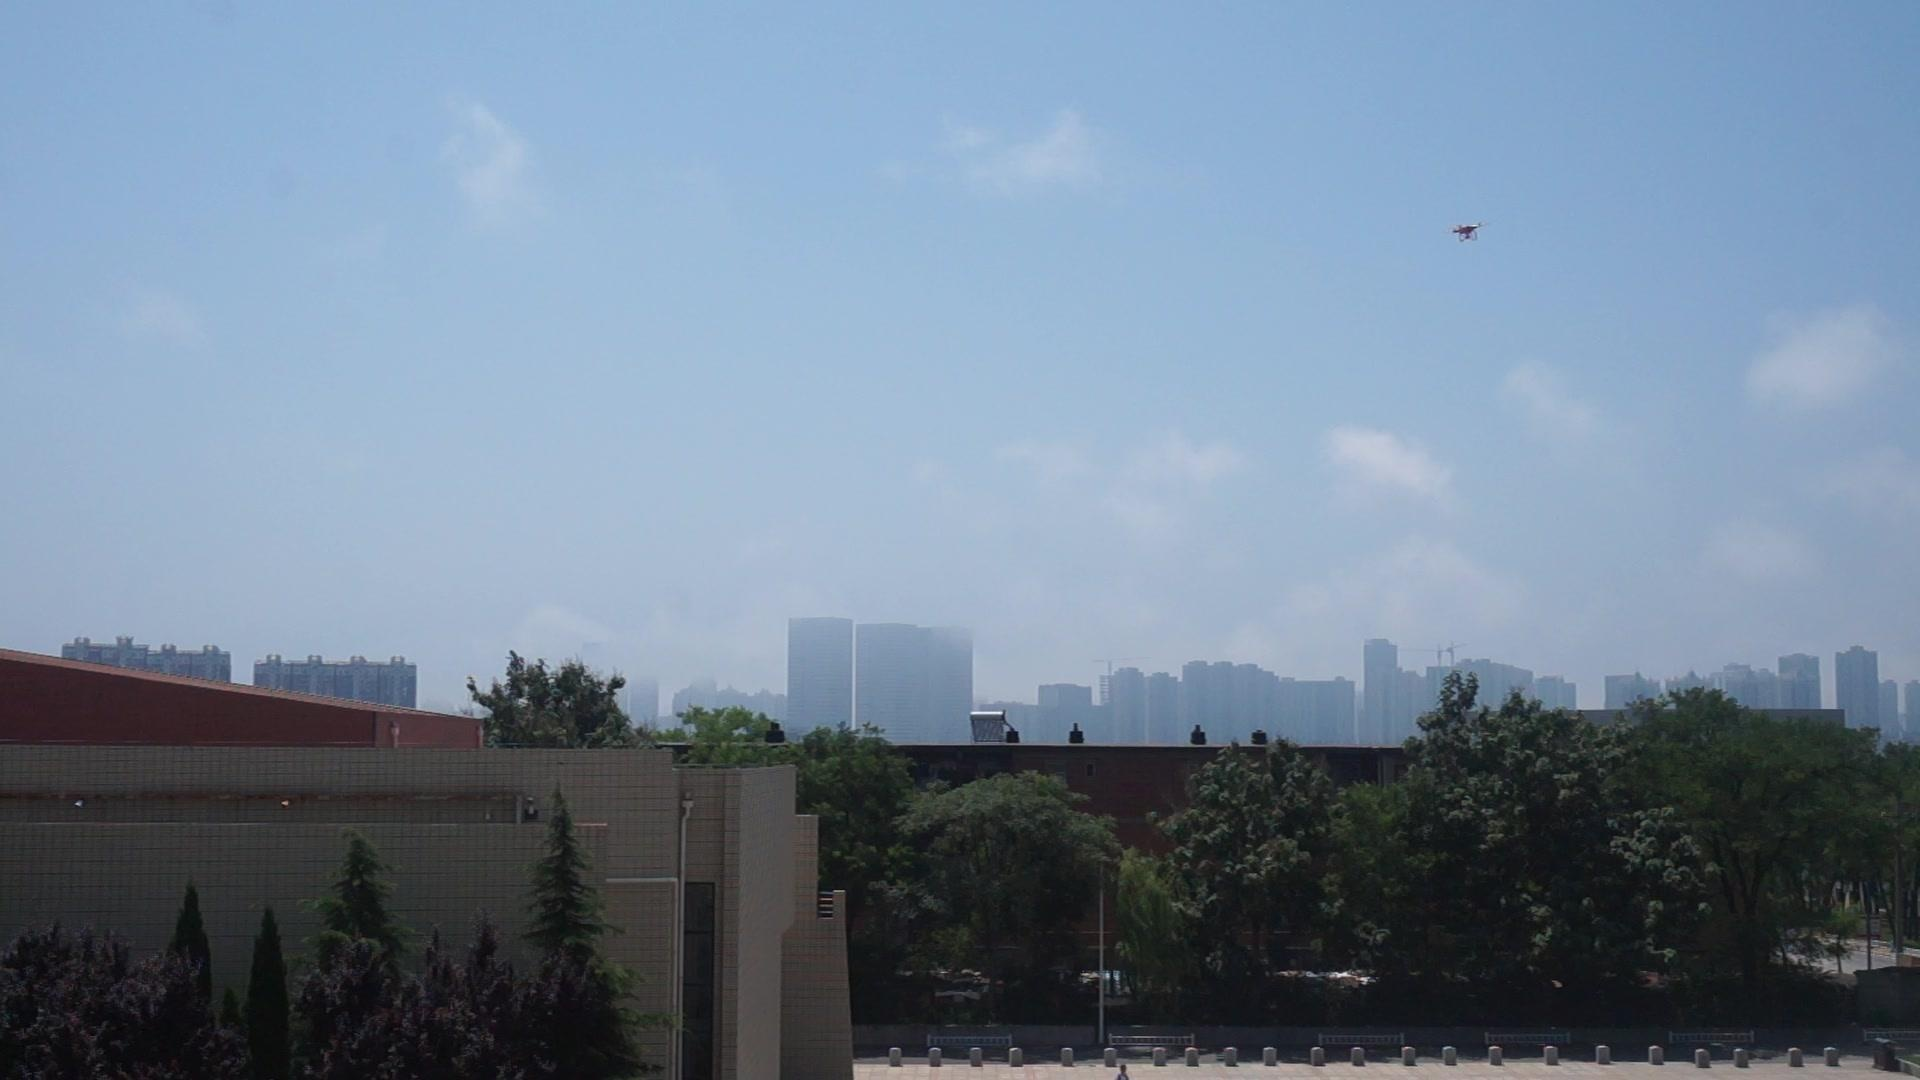UAV: (1444, 222, 1490, 243)
